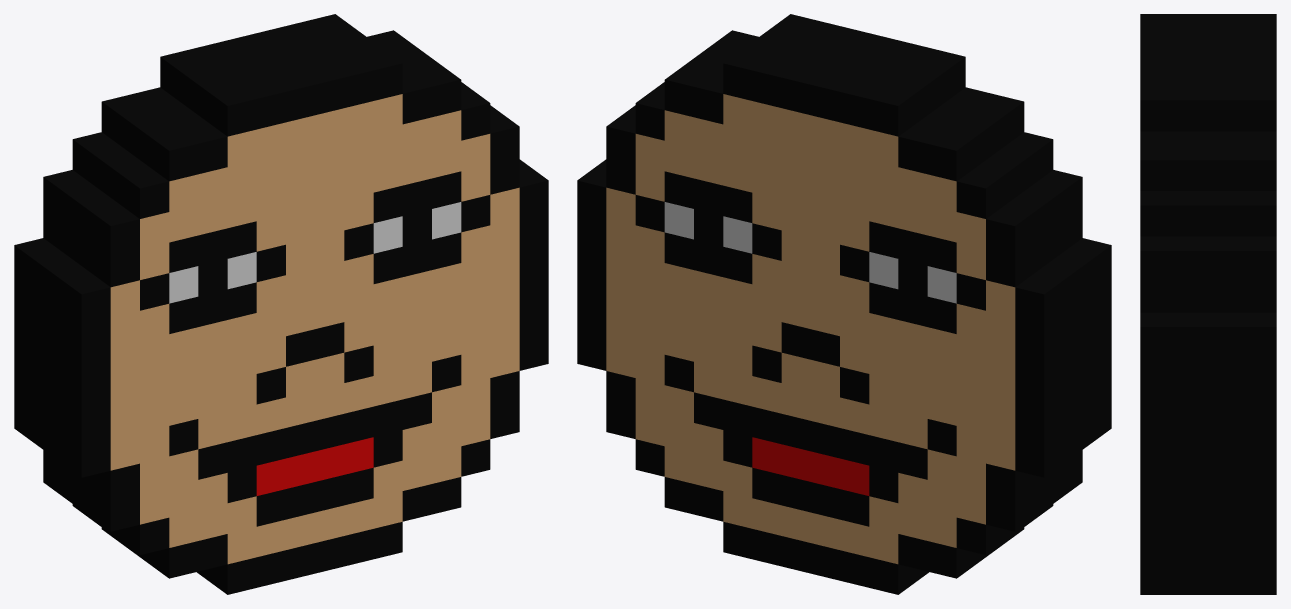
The model's file is 10-baby.glb.
3 renders of one model, left to right at view 1: azimuth 30°, elevation 25°; view 2: azimuth 150°, elevation 25°; view 3: azimuth 270°, elevation 25°, orthographic.
Parts seen in each view (by area): view 1: Mario Paint baby — extruded pixels; view 2: Mario Paint baby — extruded pixels; view 3: Mario Paint baby — extruded pixels.
Boxes of the visible parts, x1,y1,x2,y2 form: Mario Paint baby — extruded pixels: [14, 14, 548, 594]; Mario Paint baby — extruded pixels: [577, 14, 1111, 594]; Mario Paint baby — extruded pixels: [1140, 14, 1276, 594].
Bounding box in the file's own units: 0.144 × 0.144 × 0.036.
